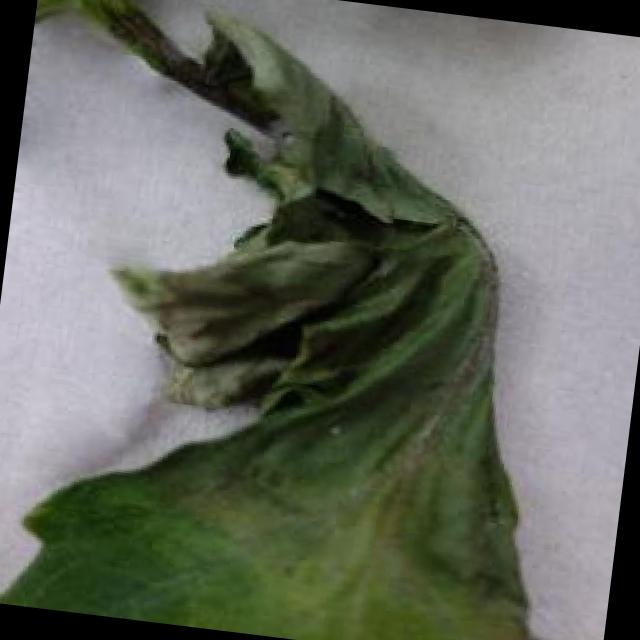Tomato_Late_Blight: (64, 224, 580, 640)
